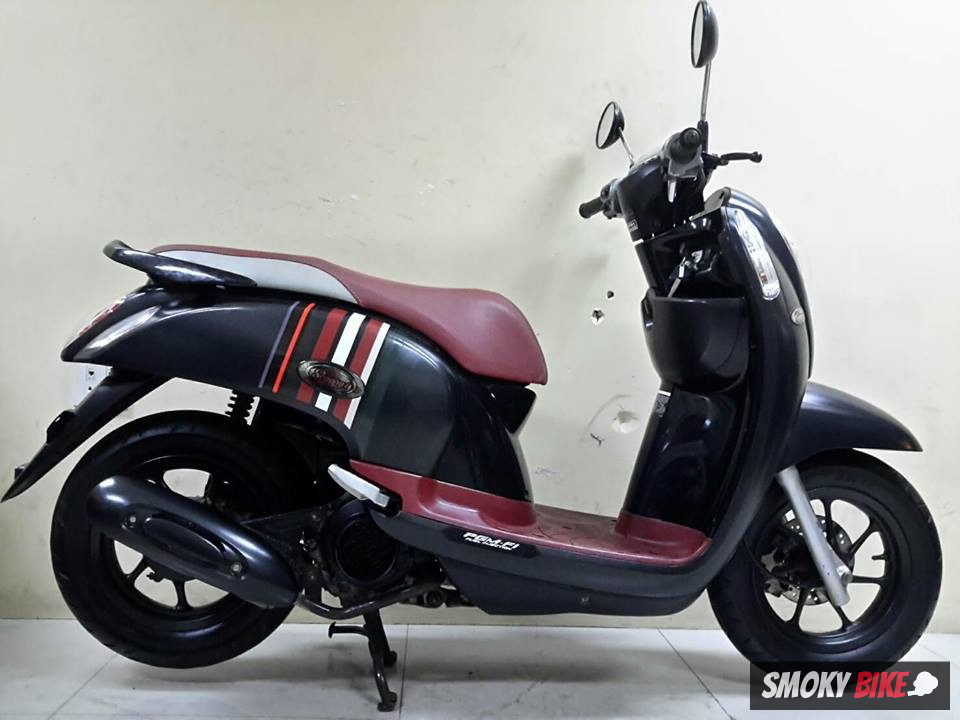motorcycle: (35, 141, 942, 663)
